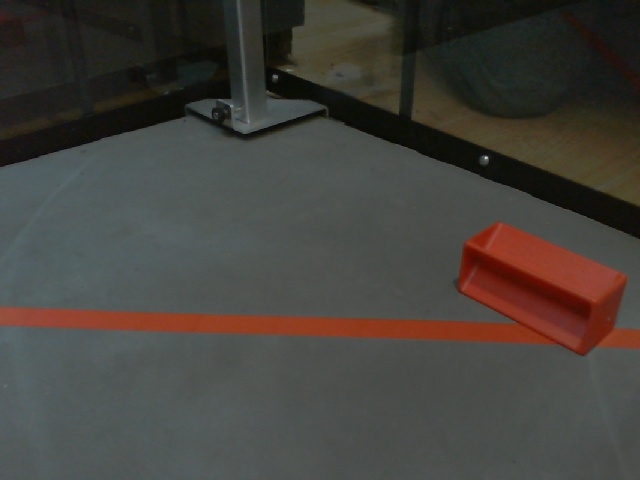RedSample: (455, 221, 627, 363)
